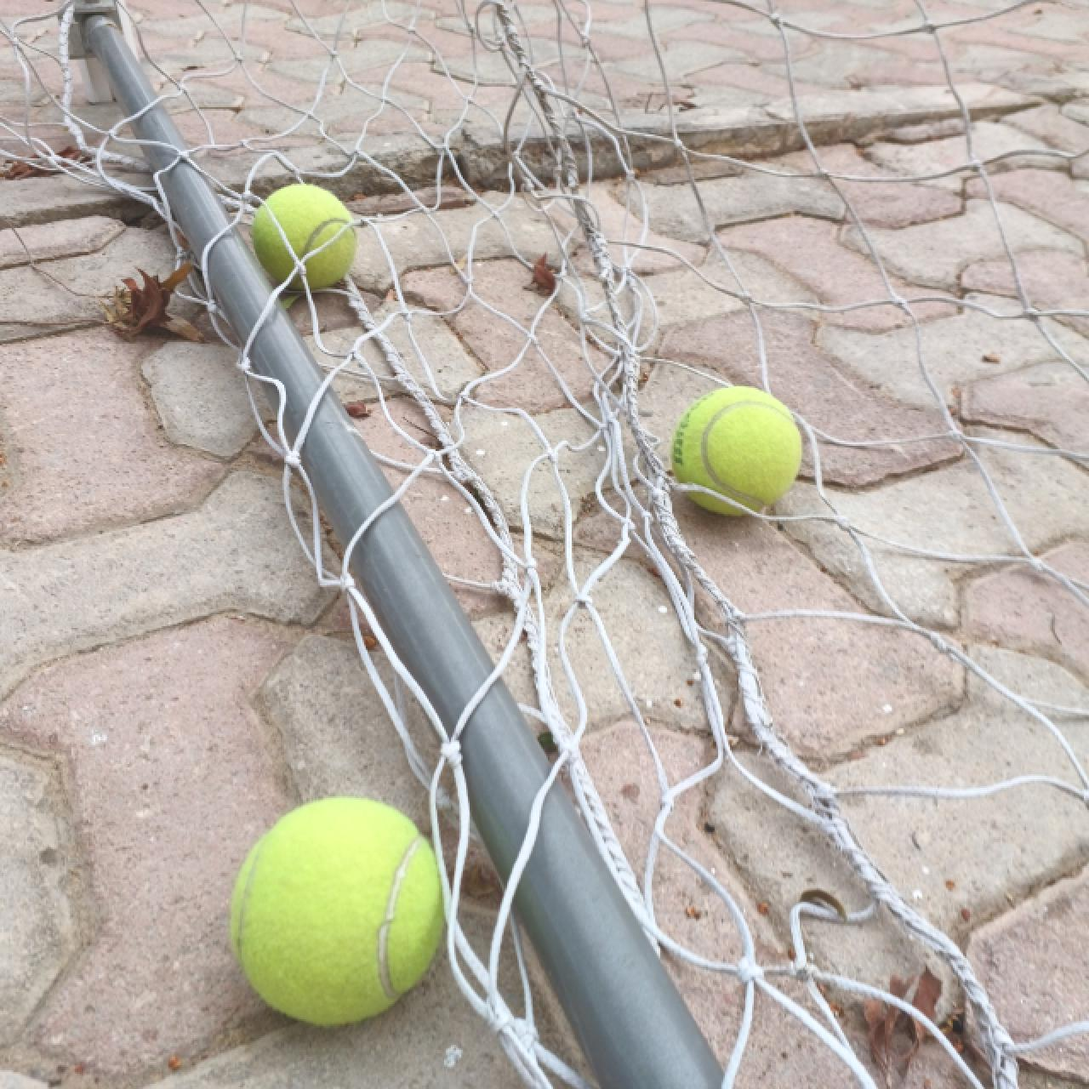tennis-ball: (223, 794, 447, 1025), (671, 382, 805, 516), (252, 178, 359, 291)
